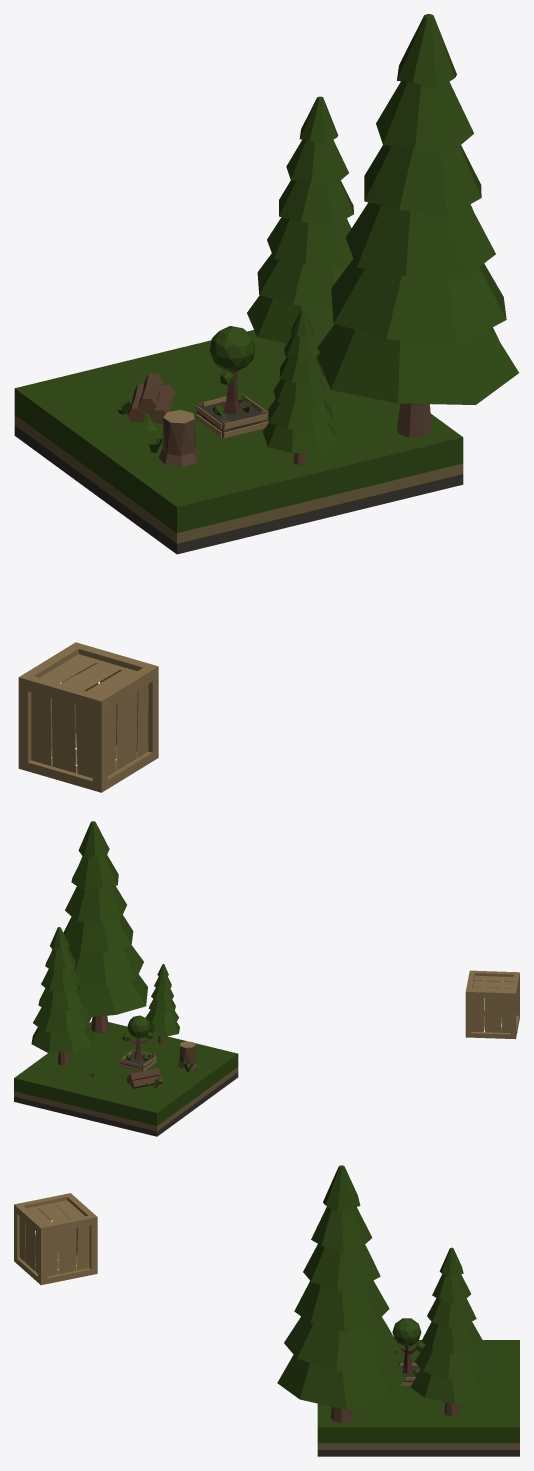
File: ExportedBlenderFBXFile.fbx
3 views of the same model, one above another, from view 1: azimuth 30°, elevation 25°; view 2: azimuth 150°, elevation 25°; view 3: azimuth 270°, elevation 25° (orthographic). The views are drawn at different scales.
Visible parts, largest first — view 1: Cube_002, Cylinder_014, Cube_099, Cylinder_000, Cylinder_002, Cylinder_022, Icosphere, Plane_038, Cylinder_015; view 2: Cube_002, Cylinder_014, Cylinder_000, Cube_099, Cylinder_002, Cylinder_022, Icosphere; view 3: Cylinder_014, Cube_002, Cylinder_000, Cube_099, Icosphere.
Part boxes in pixels (<box>): Cube_002: <box>14,330,463,554</box>; Cylinder_014: <box>316,14,518,404</box>; Cube_099: <box>18,642,158,792</box>; Cylinder_000: <box>247,96,353,346</box>; Cylinder_002: <box>262,310,337,453</box>; Cylinder_022: <box>158,410,198,466</box>; Icosphere: <box>209,326,255,371</box>; Plane_038: <box>196,394,268,438</box>; Cylinder_015: <box>397,403,431,437</box>; Cube_002: <box>14,1021,238,1136</box>; Cylinder_014: <box>63,821,147,1016</box>; Cylinder_000: <box>31,927,94,1053</box>; Cube_099: <box>465,970,519,1039</box>; Cylinder_002: <box>145,964,179,1036</box>; Cylinder_022: <box>177,1041,197,1069</box>; Icosphere: <box>127,1015,150,1038</box>; Cylinder_014: <box>277,1165,406,1409</box>; Cube_002: <box>317,1340,519,1456</box>; Cylinder_000: <box>410,1247,492,1404</box>; Cube_099: <box>14,1193,97,1285</box>; Icosphere: <box>392,1318,421,1345</box>.
Size of the model in its own units: 1.74 by 1.08 by 1.74.
